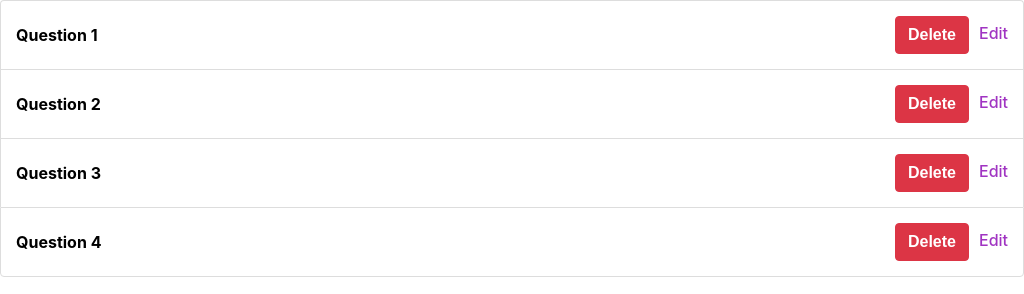
should remove one accordion when clicked on the delete button
The width and height of the screenshot is (1024, 294).
Click the button "Delete" in the row of "Question 2": (932, 104) [895,85,969,123]
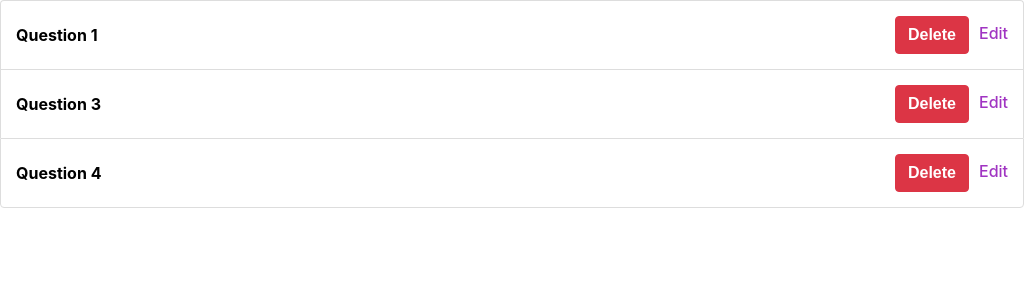
Expected: the number of buttons "Delete" is 3, [895,16,969,54]; [895,85,969,123]; [895,154,969,192]
